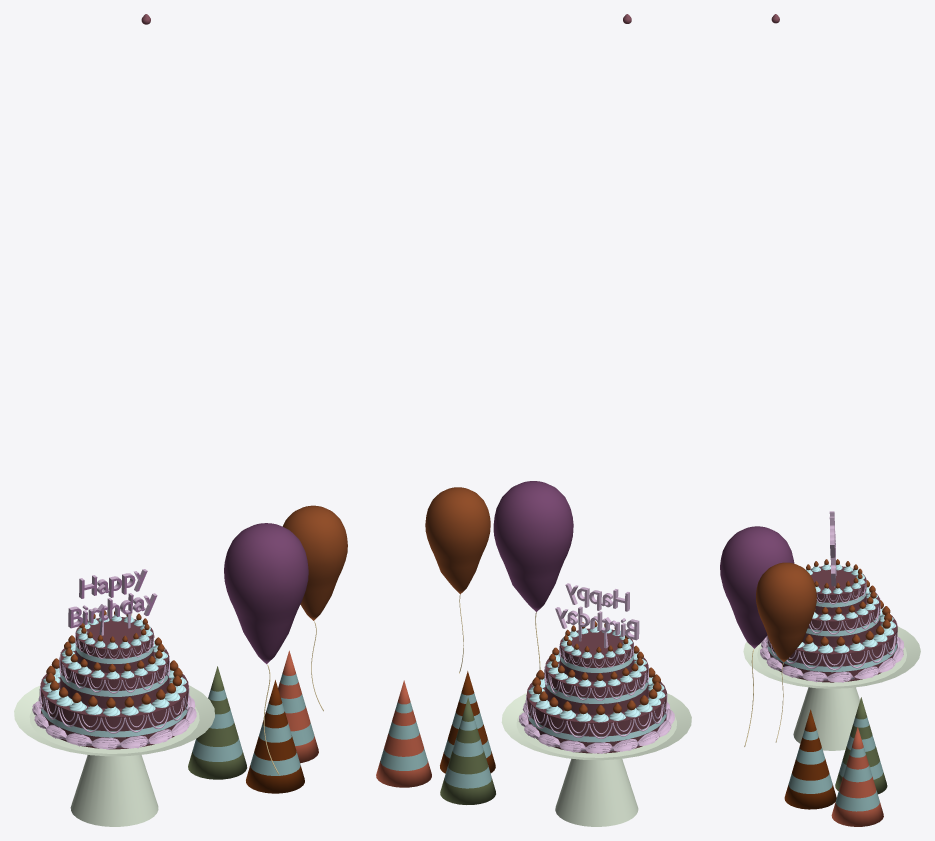
The model's file is Strawberry+Birthday+Cake-transformed.glb.
3 renders of one model, left to right at view 1: azimuth 30°, elevation 25°; view 2: azimuth 150°, elevation 25°; view 3: azimuth 270°, elevation 25°, orthographic. The views are drawn at different scales.
Parts seen in each view (by area): view 1: Cake, Balloons, Birthday Hats, Cake Holder, Happy Birthday Decoration; view 2: Cake, Balloons, Birthday Hats, Cake Holder, Happy Birthday Decoration; view 3: Cake, Balloons, Birthday Hats, Cake Holder, Happy Birthday Decoration.
Boxes of the visible parts, bbox=[...] form: Cake: bbox=[32, 14, 196, 749]; Balloons: bbox=[224, 505, 347, 774]; Birthday Hats: bbox=[188, 650, 318, 793]; Cake Holder: bbox=[14, 685, 214, 826]; Happy Birthday Decoration: bbox=[68, 569, 157, 635]; Cake: bbox=[518, 14, 674, 753]; Balloons: bbox=[425, 481, 573, 673]; Birthday Hats: bbox=[376, 671, 495, 804]; Cake Holder: bbox=[501, 693, 691, 826]; Happy Birthday Decoration: bbox=[555, 583, 639, 648]; Cake: bbox=[760, 14, 904, 682]; Balloons: bbox=[720, 526, 816, 746]; Birthday Hats: bbox=[784, 697, 887, 826]; Cake Holder: bbox=[743, 626, 920, 750]; Happy Birthday Decoration: bbox=[829, 511, 836, 587].
Bounding box in the file's own units: 4.7 × 12.16 × 3.07.
5 materials, 5 textured.
